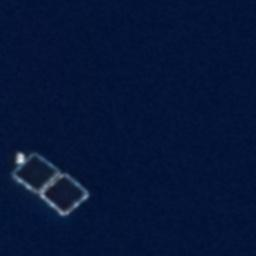square_solid: (6, 149, 65, 200), (39, 170, 94, 218)
